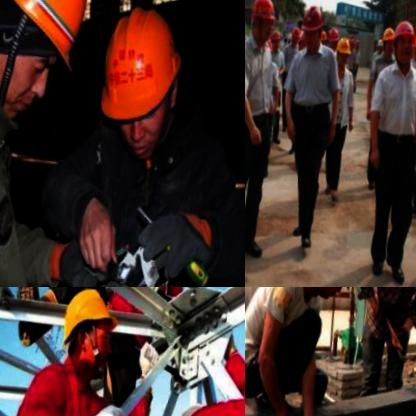helmet: (81, 0, 200, 165), (0, 0, 100, 133), (48, 287, 125, 378), (388, 18, 416, 70), (246, 0, 277, 44), (297, 4, 324, 52), (308, 287, 370, 304), (375, 24, 397, 63), (332, 36, 354, 74), (324, 23, 339, 57), (268, 26, 284, 54), (286, 27, 302, 51)
